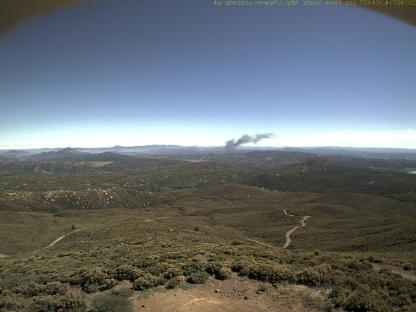smoke: (223, 128, 278, 154)
